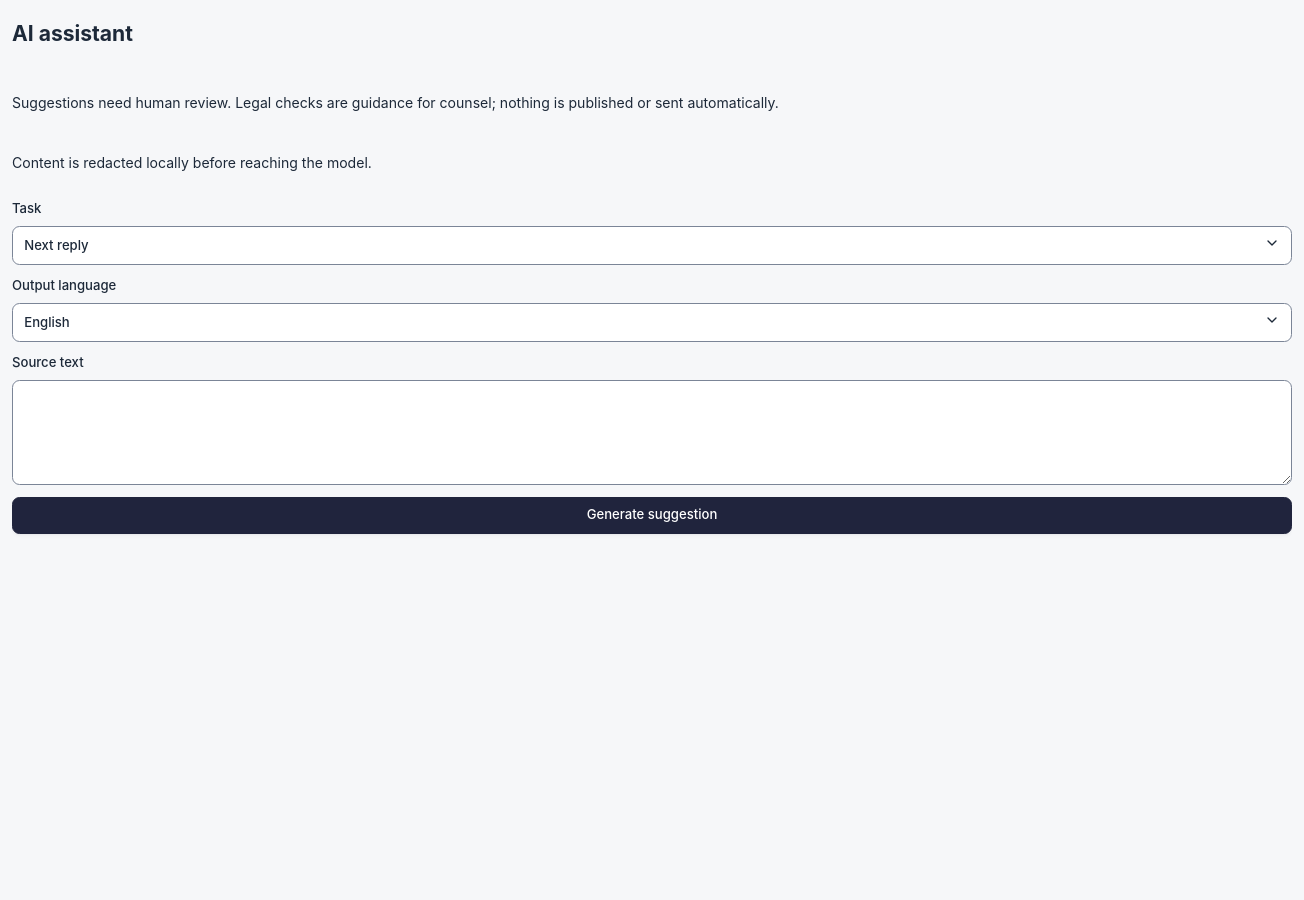
Scenario: does nothing when no page is suggested
Click the dropdown named "Task". click: [56, 245]
box: [12,226,1292,265]
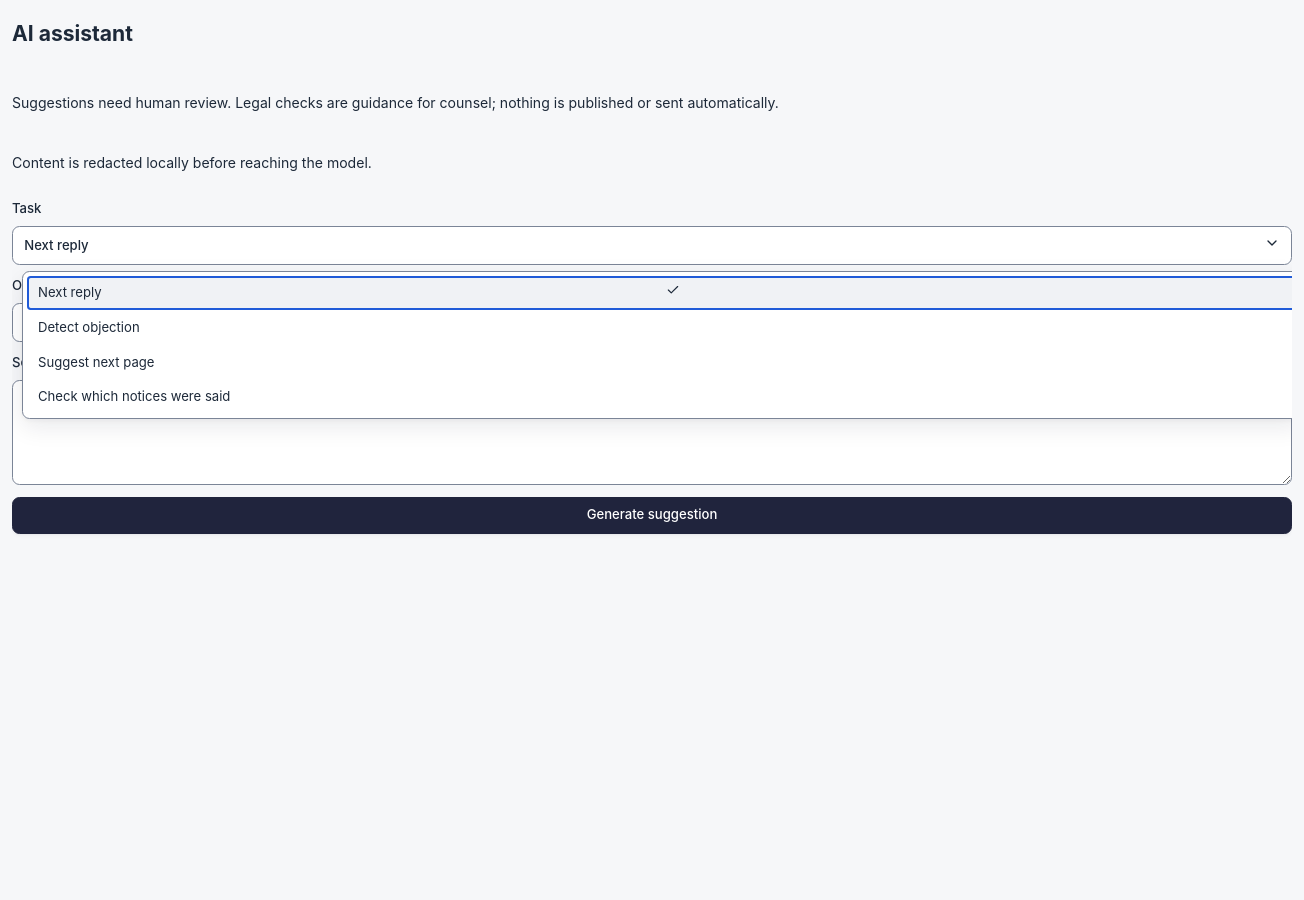
Click the option "Suggest next page". click: [96, 362]
box: [38,354,154,370]
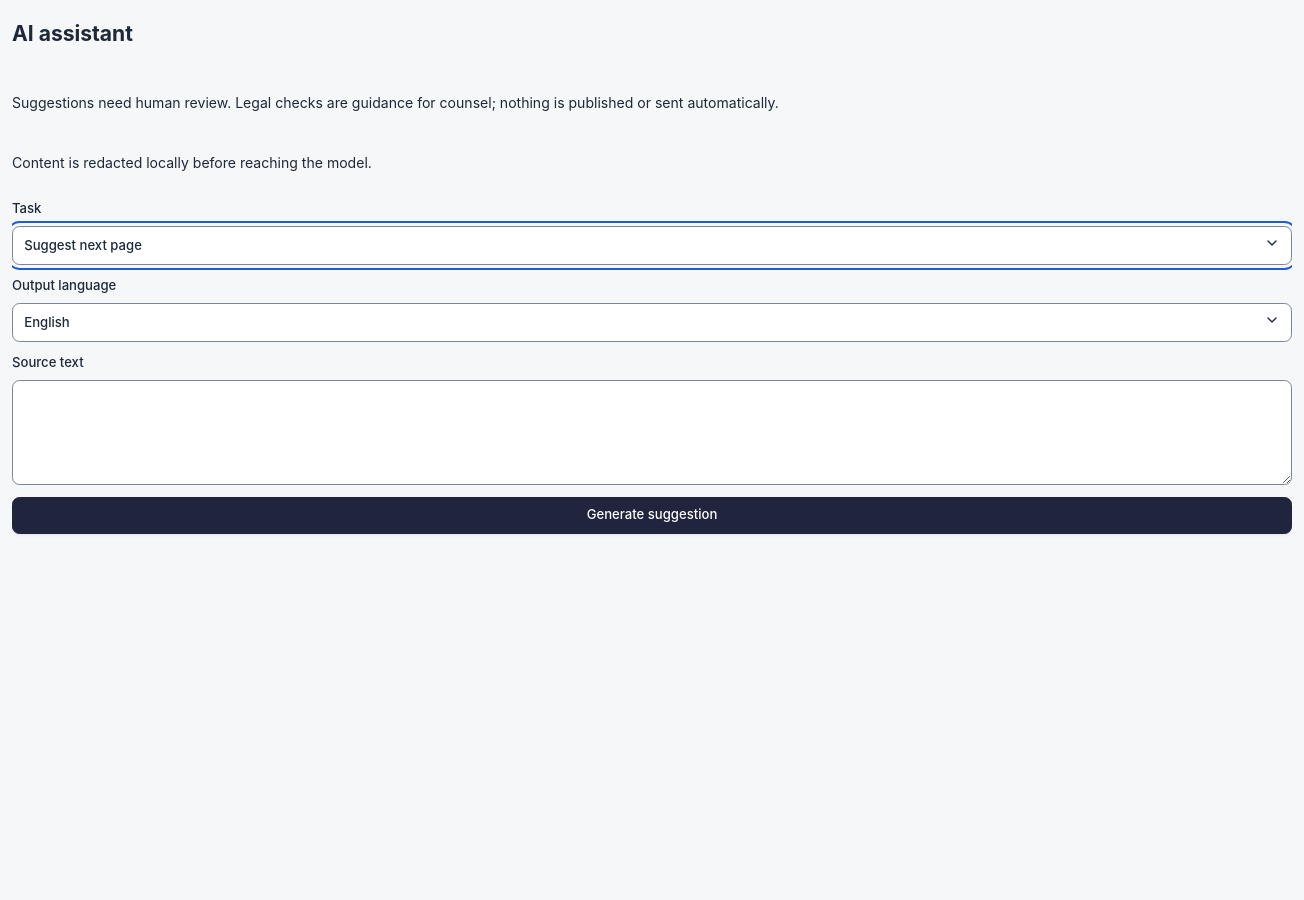
Click the button "Generate suggestion". click: [652, 515]
box: [12,496,1292,534]
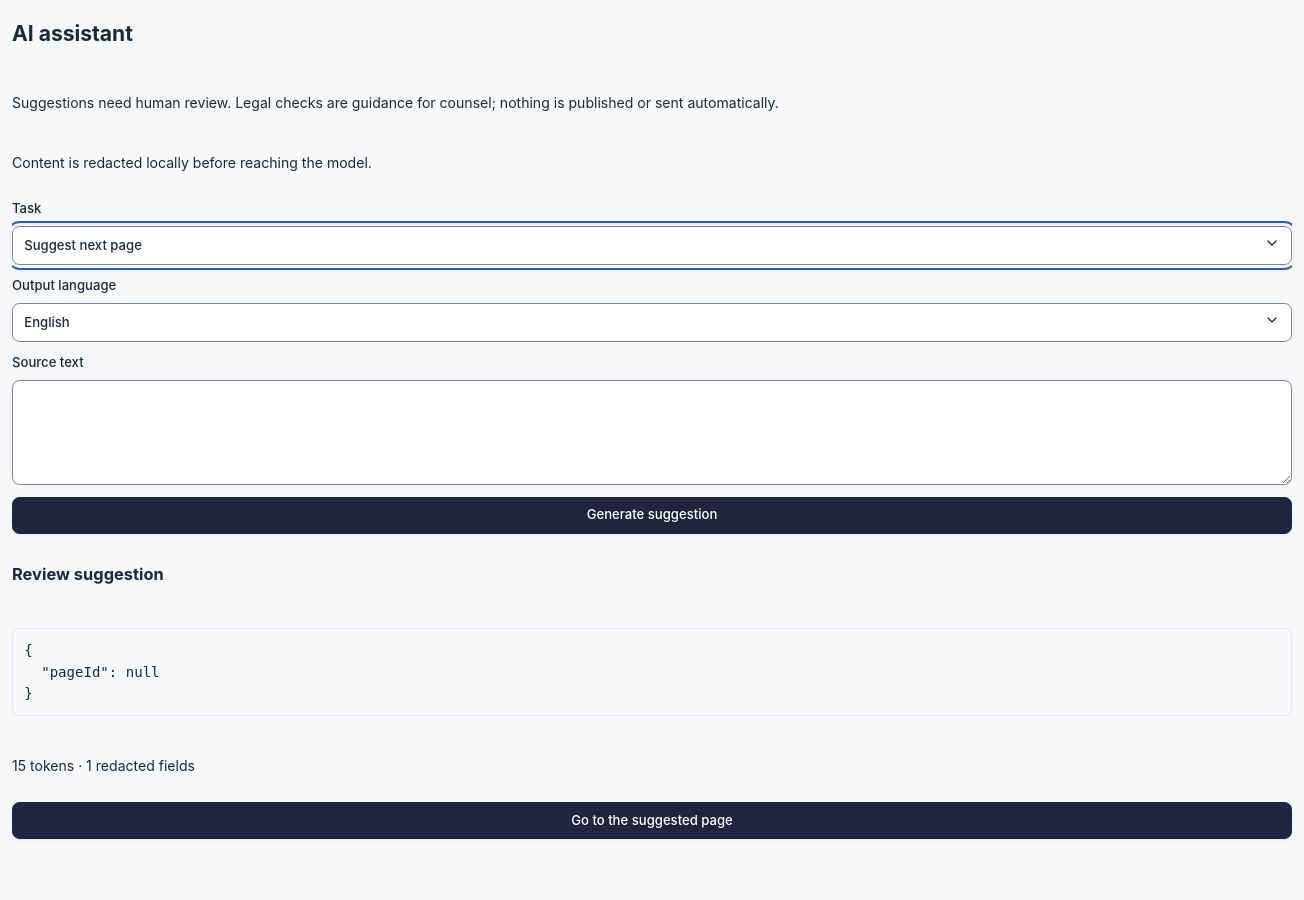
Click the button "Go to the suggested page". click: [652, 820]
box: [12,802,1292,839]
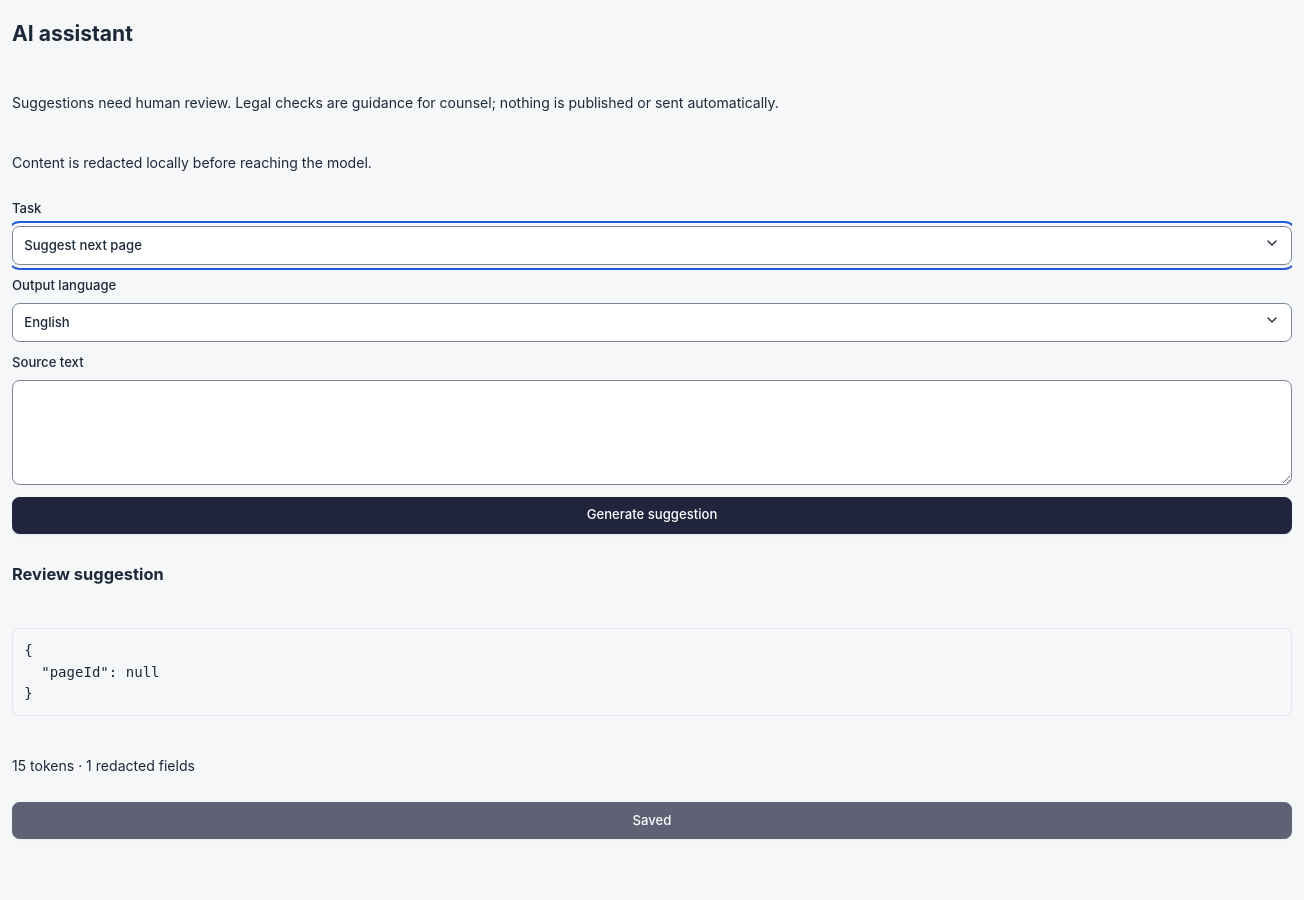
Result: the button "Saved" is shown at [12,802,1292,839]
